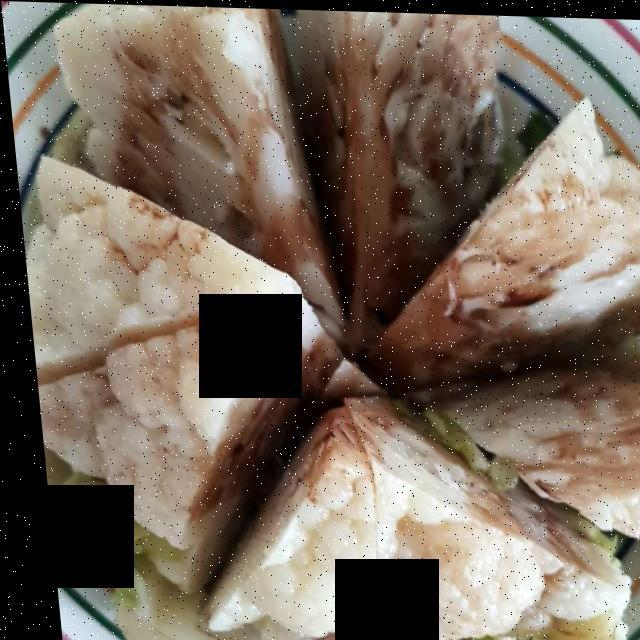cauliflower: (36, 10, 640, 640)
